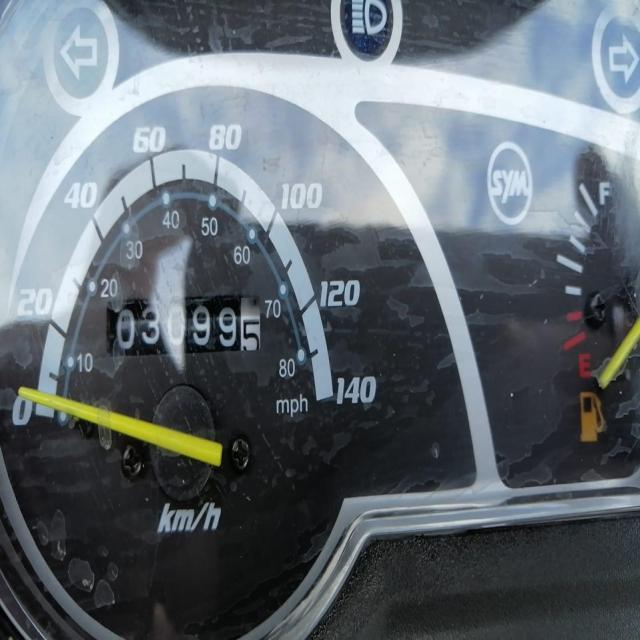odometer: (104, 294, 265, 355)
